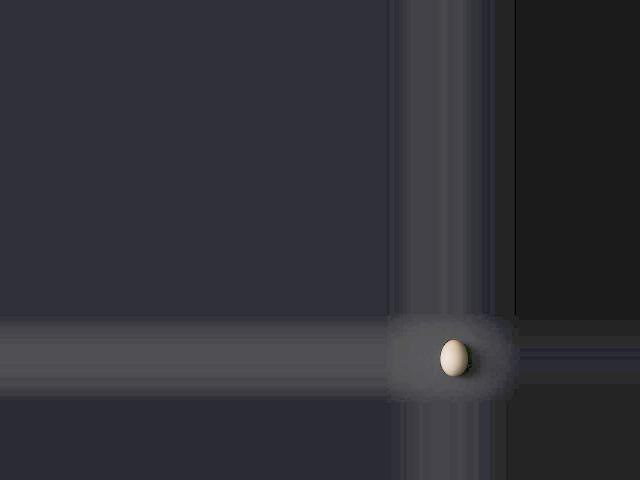egg: (439, 339, 466, 377)
